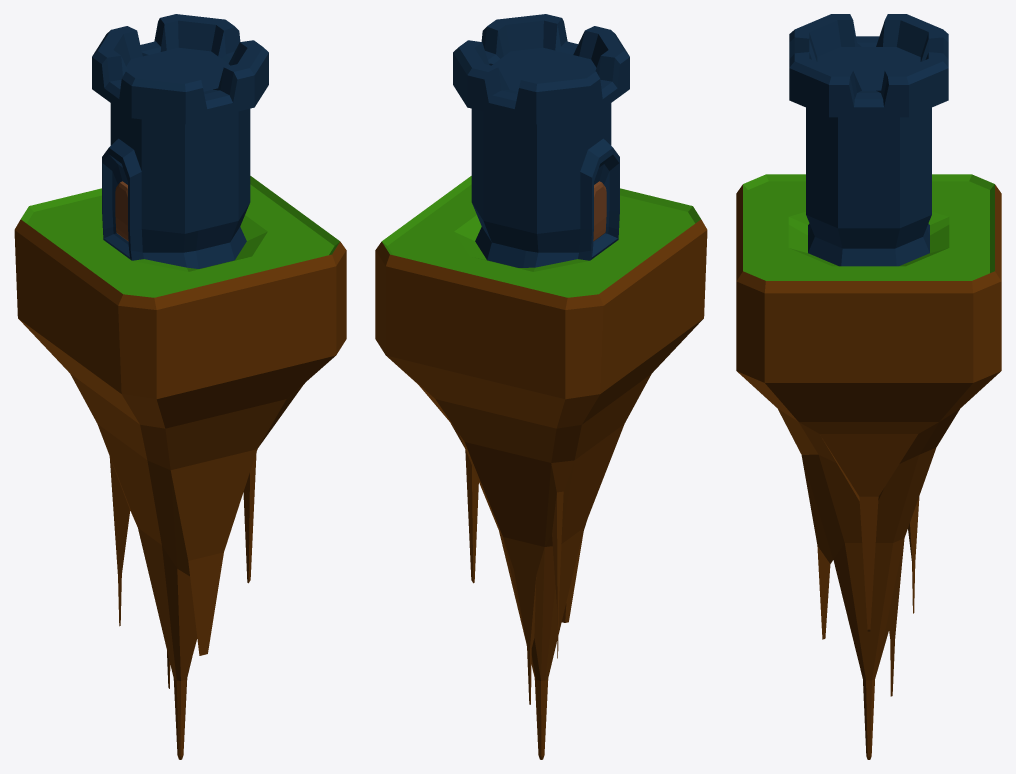
Rendered from Castle.fbx.
3 views of the same model, side by side, from view 1: azimuth 30°, elevation 25°; view 2: azimuth 150°, elevation 25°; view 3: azimuth 270°, elevation 25° (orthographic).
Parts seen in each view (by area): view 1: Castle; view 2: Castle; view 3: Castle.
Boxes of the visible parts, left/top/right/bottom form: Castle: left=14, top=14, right=346, bottom=759; Castle: left=375, top=14, right=707, bottom=759; Castle: left=736, top=14, right=1001, bottom=759.
Bounding box in the file's own units: 100 × 297 × 100.
